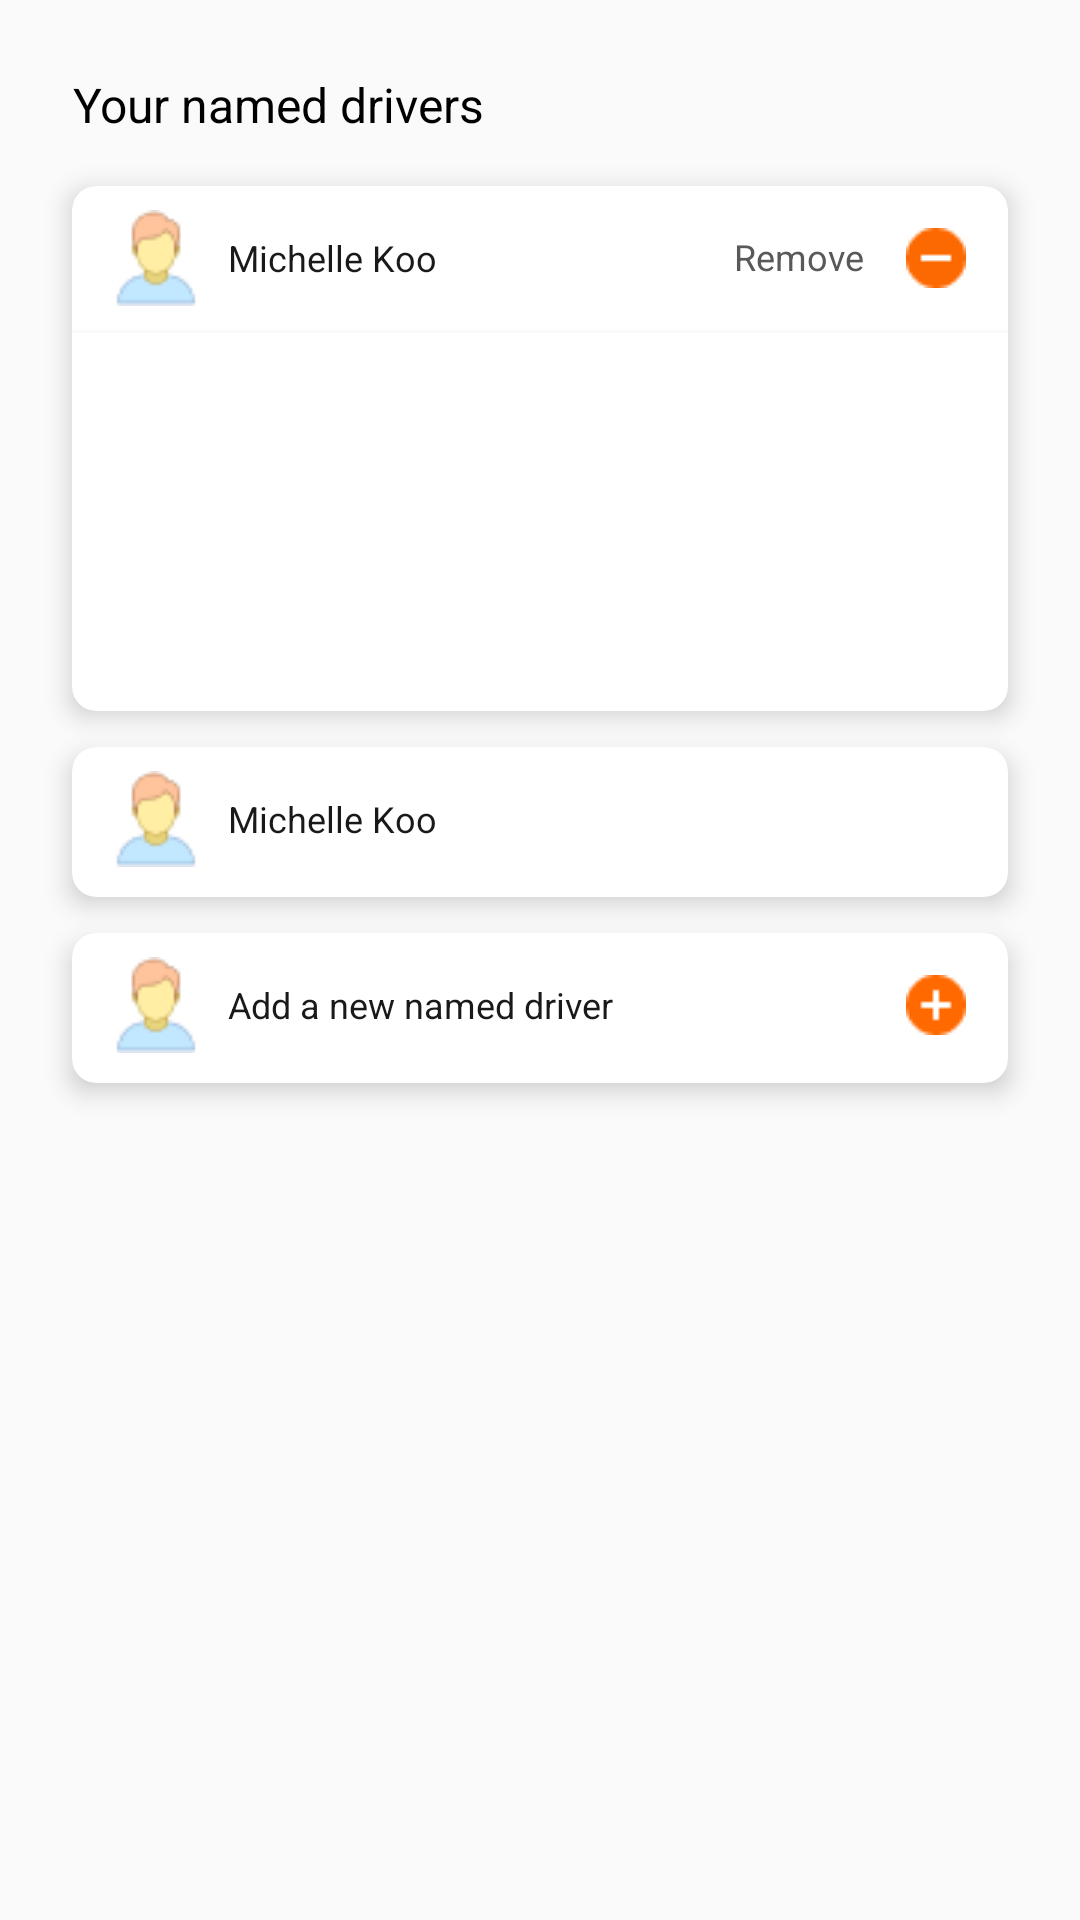

Icon bounding boxes for this 1080 × 1920 phone screenshot, format region(x1, y1, x2, y2):
add: region(906, 975, 966, 1035)
user: region(116, 210, 196, 306), region(116, 771, 196, 867), region(116, 957, 196, 1053)
